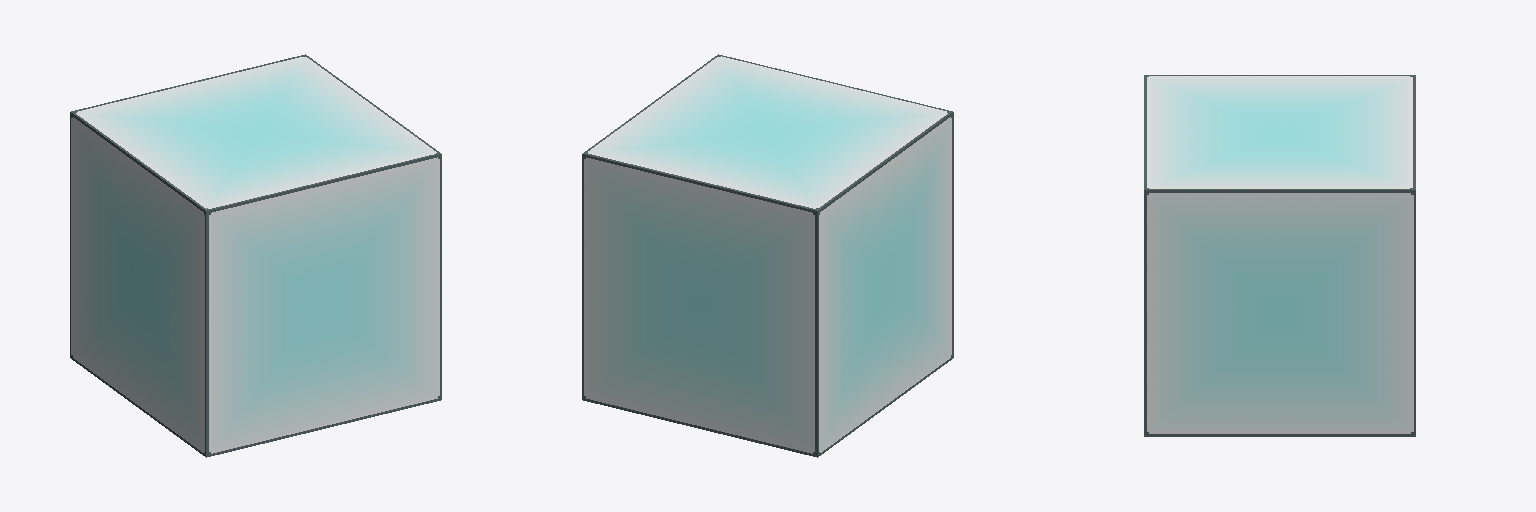
The picture shows the model from 3 angles: view 1: azimuth 30°, elevation 25°; view 2: azimuth 150°, elevation 25°; view 3: azimuth 270°, elevation 25°; orthographic projection.
Visible parts, largest first — view 1: Solid; view 2: Solid; view 3: Solid.
Part boxes in pixels (bbox=[...]): Solid: bbox=[70, 54, 441, 457]; Solid: bbox=[582, 54, 953, 457]; Solid: bbox=[1144, 75, 1415, 436].
Bounding box in the file's own units: 1.15 × 1.15 × 1.15.
1 materials, 1 textured.